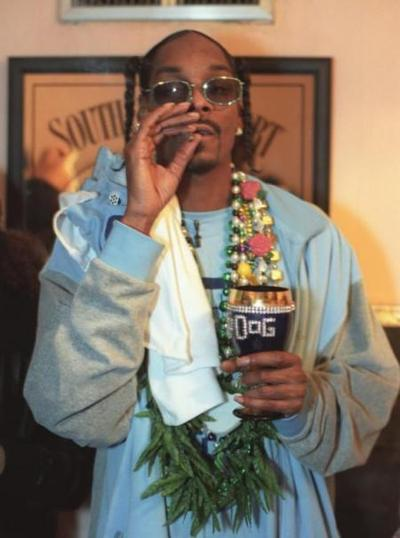person: (25, 19, 397, 538)
